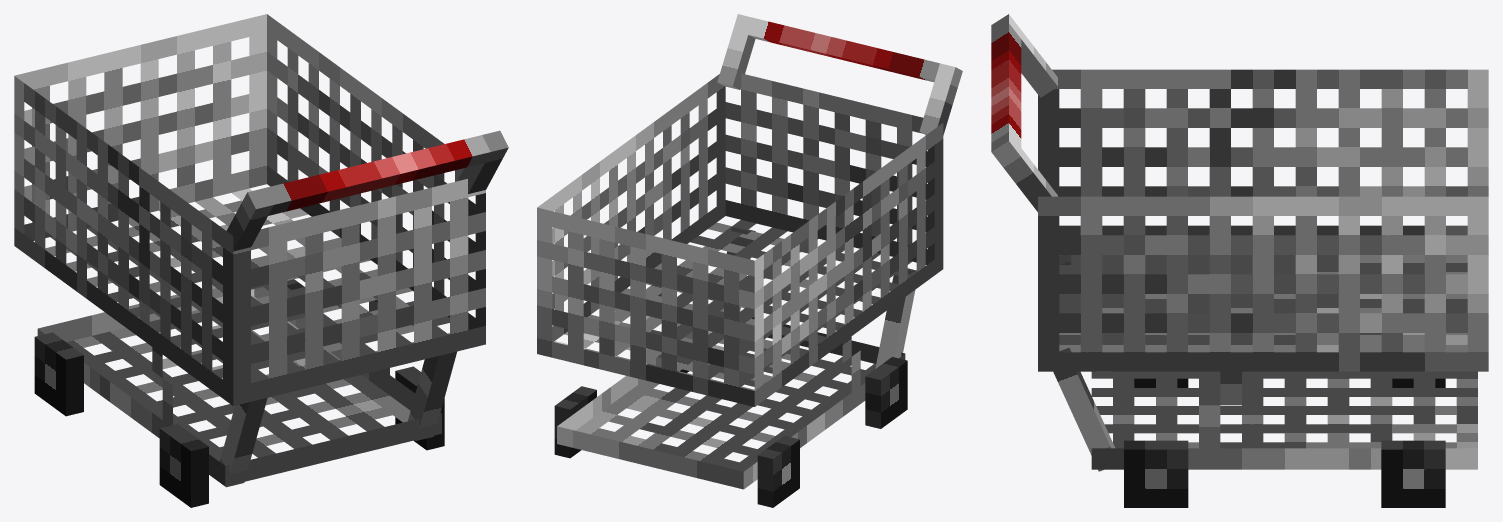
The model's file is cubic_shopping_cart.glb.
3 renders of one model, left to right at view 1: azimuth 30°, elevation 25°; view 2: azimuth 150°, elevation 25°; view 3: azimuth 270°, elevation 25°, orthographic. The views are drawn at different scales.
Parts seen in each view (by area): view 1: 7f61b447-82f0-53ed-16ac-b1b53b5bcdb2_10, d1ac9450-7d11-bcaa-c2cf-cf7d499d4280_12, c8760f1a-a4f4-a100-7356-1a90498d4c17_14, 763484d6-1225-605b-6ccb-cf44b2ed0662_2, ede97fb9-9a4d-8010-efc6-180a496a2df2_0, 2a282b53-cedf-ab05-4310-511811449d66_16, fba22acc-161c-aab5-1d86-8e72c7a1a5f4_11, 3c4daa87-7801-f99b-efb6-d0ff6a3c30fe_13, 96d25d99-57a8-2828-c816-48e54d21ed21_15, f5f8be9f-206d-f94a-9634-05058ca8d99f_7; view 2: 7f61b447-82f0-53ed-16ac-b1b53b5bcdb2_10, d1ac9450-7d11-bcaa-c2cf-cf7d499d4280_12, c8760f1a-a4f4-a100-7356-1a90498d4c17_14, 763484d6-1225-605b-6ccb-cf44b2ed0662_2, ede97fb9-9a4d-8010-efc6-180a496a2df2_0, 3c4daa87-7801-f99b-efb6-d0ff6a3c30fe_13, fba22acc-161c-aab5-1d86-8e72c7a1a5f4_11, 96d25d99-57a8-2828-c816-48e54d21ed21_15, bceb03f3-100d-9e6b-34b9-e91560c1a54a_5; view 3: 7f61b447-82f0-53ed-16ac-b1b53b5bcdb2_10, d1ac9450-7d11-bcaa-c2cf-cf7d499d4280_12, bceb03f3-100d-9e6b-34b9-e91560c1a54a_5, f5f8be9f-206d-f94a-9634-05058ca8d99f_7, c8760f1a-a4f4-a100-7356-1a90498d4c17_14, 2a282b53-cedf-ab05-4310-511811449d66_16, 96d25d99-57a8-2828-c816-48e54d21ed21_15, 3c4daa87-7801-f99b-efb6-d0ff6a3c30fe_13.
Boxes of the visible parts, <box> form: 7f61b447-82f0-53ed-16ac-b1b53b5bcdb2_10: <box>14,14,485,405</box>; d1ac9450-7d11-bcaa-c2cf-cf7d499d4280_12: <box>37,286,441,486</box>; c8760f1a-a4f4-a100-7356-1a90498d4c17_14: <box>265,135,490,215</box>; 763484d6-1225-605b-6ccb-cf44b2ed0662_2: <box>159,424,208,507</box>; ede97fb9-9a4d-8010-efc6-180a496a2df2_0: <box>34,332,83,416</box>; 2a282b53-cedf-ab05-4310-511811449d66_16: <box>408,351,456,440</box>; fba22acc-161c-aab5-1d86-8e72c7a1a5f4_11: <box>219,398,267,487</box>; 3c4daa87-7801-f99b-efb6-d0ff6a3c30fe_13: <box>226,188,273,251</box>; 96d25d99-57a8-2828-c816-48e54d21ed21_15: <box>458,130,508,193</box>; f5f8be9f-206d-f94a-9634-05058ca8d99f_7: <box>395,366,444,450</box>; 7f61b447-82f0-53ed-16ac-b1b53b5bcdb2_10: <box>537,73,943,406</box>; d1ac9450-7d11-bcaa-c2cf-cf7d499d4280_12: <box>557,293,905,489</box>; c8760f1a-a4f4-a100-7356-1a90498d4c17_14: <box>748,18,939,82</box>; 763484d6-1225-605b-6ccb-cf44b2ed0662_2: <box>865,357,907,428</box>; ede97fb9-9a4d-8010-efc6-180a496a2df2_0: <box>757,435,799,507</box>; 3c4daa87-7801-f99b-efb6-d0ff6a3c30fe_13: <box>919,63,962,135</box>; fba22acc-161c-aab5-1d86-8e72c7a1a5f4_11: <box>875,268,916,368</box>; 96d25d99-57a8-2828-c816-48e54d21ed21_15: <box>717,14,755,89</box>; bceb03f3-100d-9e6b-34b9-e91560c1a54a_5: <box>554,386,596,458</box>; 7f61b447-82f0-53ed-16ac-b1b53b5bcdb2_10: <box>1038,69,1488,371</box>; d1ac9450-7d11-bcaa-c2cf-cf7d499d4280_12: <box>1091,371,1477,469</box>; bceb03f3-100d-9e6b-34b9-e91560c1a54a_5: <box>1381,440,1445,507</box>; f5f8be9f-206d-f94a-9634-05058ca8d99f_7: <box>1124,440,1188,507</box>; c8760f1a-a4f4-a100-7356-1a90498d4c17_14: <box>991,23,1021,147</box>; 2a282b53-cedf-ab05-4310-511811449d66_16: <box>1053,347,1114,471</box>; 96d25d99-57a8-2828-c816-48e54d21ed21_15: <box>991,132,1057,211</box>; 3c4daa87-7801-f99b-efb6-d0ff6a3c30fe_13: <box>991,14,1057,97</box>.
Bounding box in the file's own units: 0.7806 × 1.05 × 1.29.
1 material, 1 textured.
